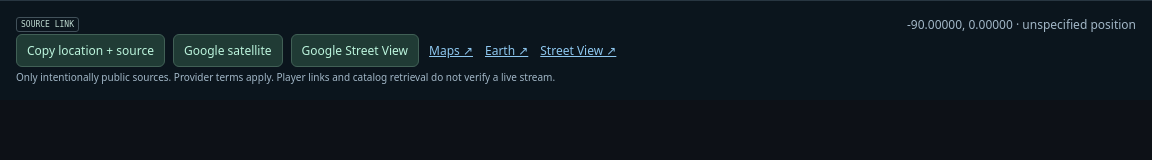
Test case: Google geographic context › provides no-key context links and explains the optional embed key
Click the button "Google satellite" at point(228, 51), box x1=173 y1=34 x2=283 y2=67
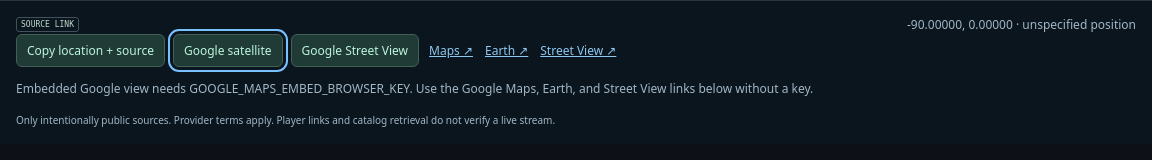
expect the message shows "GOOGLE_MAPS_EMBED_BROWSER_KEY": met, box x1=16 y1=80 x2=813 y2=97
